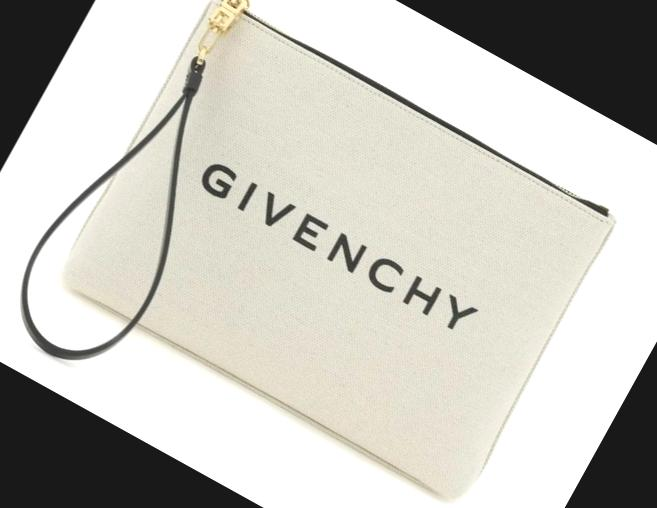GIVENCHY: (175, 140, 496, 360)
